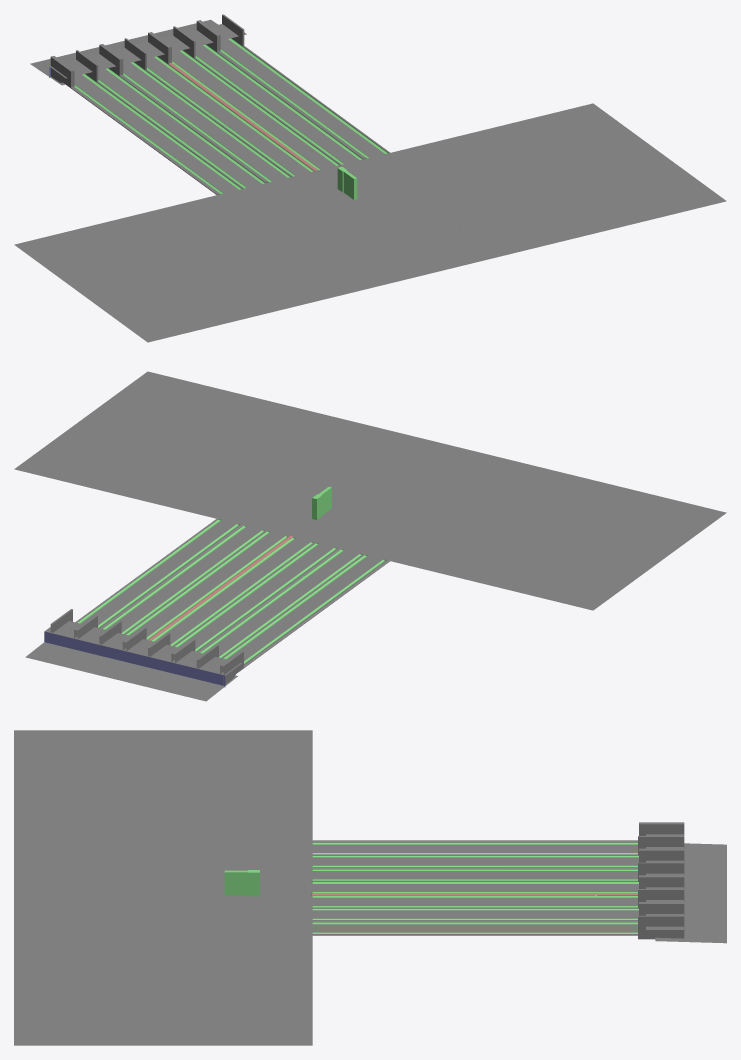
Rendered from bwg_field_col.glb.
The picture shows the model from 3 angles, top to bottom: view 1: azimuth 30°, elevation 25°; view 2: azimuth 150°, elevation 25°; view 3: azimuth 270°, elevation 25°; orthographic projection. The views are drawn at different scales.
Visible parts, largest first — view 1: collision_0x0000, collision_0x0001, collision_0x0002, collision_0x0005, collision_0x0008; view 2: collision_0x0000, collision_0x0001, collision_0x0005, collision_0x0002, collision_0x0003, collision_0x0008; view 3: collision_0x0000, collision_0x0001, collision_0x0002, collision_0x0005, collision_0x0008, collision_0x0007.
Boxes of the visible parts, x1=… form: collision_0x0000: x1=14, y1=24, x2=726, y2=342; collision_0x0001: x1=74, y1=38, x2=387, y2=193; collision_0x0002: x1=50, y1=14, x2=244, y2=87; collision_0x0005: x1=30, y1=19, x2=217, y2=85; collision_0x0008: x1=167, y1=63, x2=317, y2=171; collision_0x0000: x1=14, y1=371, x2=726, y2=675; collision_0x0001: x1=77, y1=519, x2=385, y2=663; collision_0x0005: x1=25, y1=642, x2=237, y2=701; collision_0x0002: x1=50, y1=609, x2=243, y2=685; collision_0x0003: x1=44, y1=631, x2=225, y2=687; collision_0x0008: x1=147, y1=535, x2=292, y2=640; collision_0x0000: x1=14, y1=730, x2=683, y2=1045; collision_0x0001: x1=312, y1=842, x2=638, y2=933; collision_0x0002: x1=638, y1=822, x2=684, y2=939; collision_0x0005: x1=655, y1=843, x2=726, y2=943; collision_0x0008: x1=312, y1=893, x2=637, y2=895; collision_0x0007: x1=224, y1=870, x2=259, y2=896.
Bounding box in the file's own units: 400 × 16.71 × 382.
